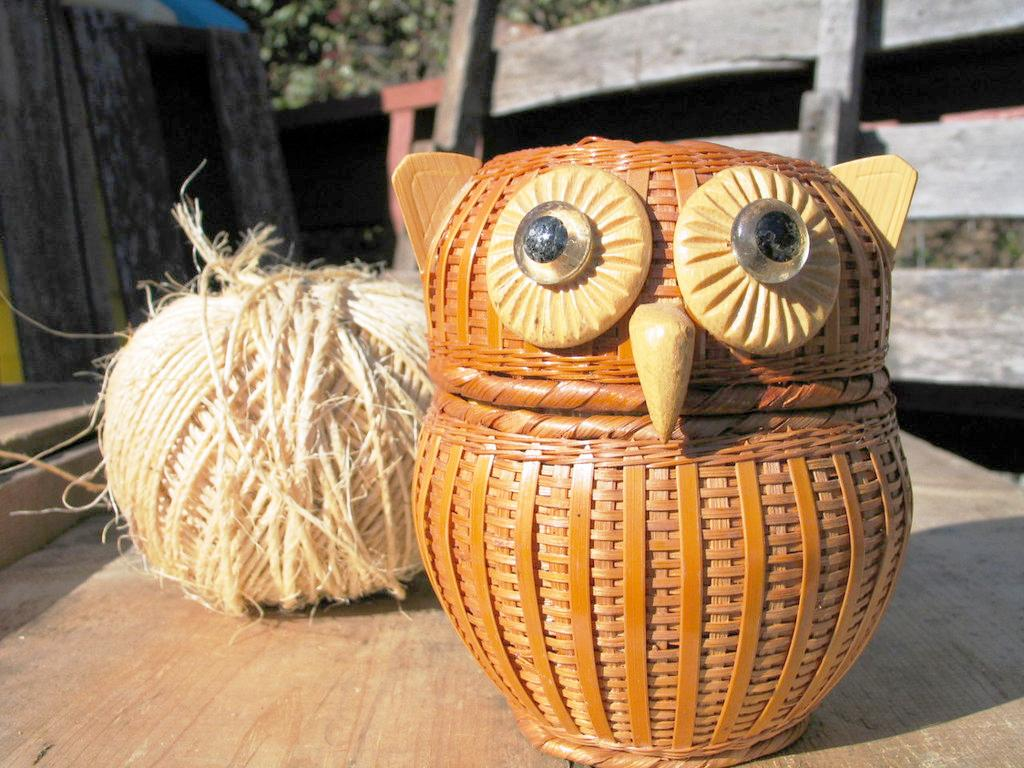Owl: (386, 136, 922, 767)
